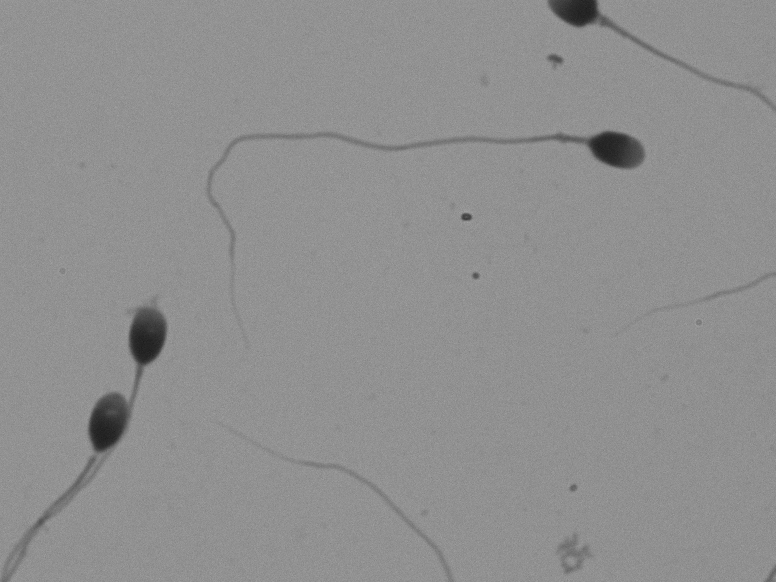Normal: (182, 71, 652, 343), (23, 218, 184, 569)
